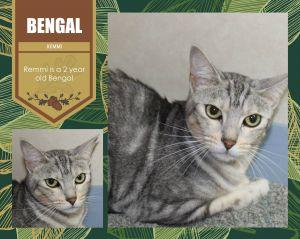bengal: (179, 33, 290, 166)
